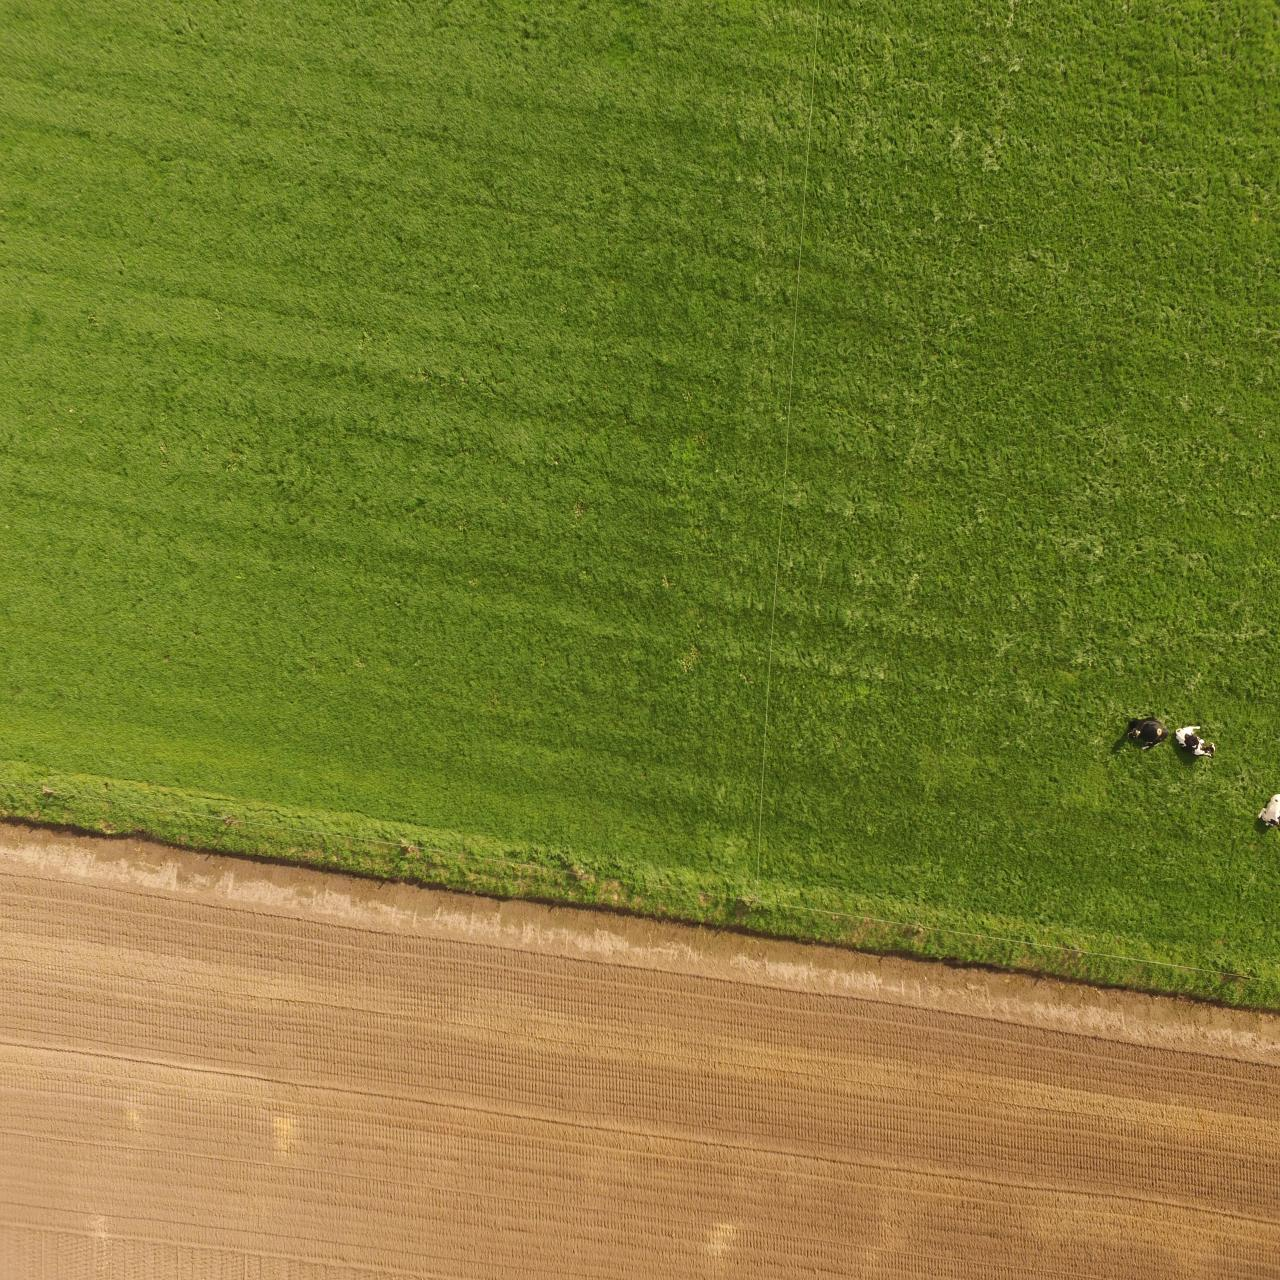cow: (1172, 721, 1219, 763), (1125, 715, 1169, 754)
